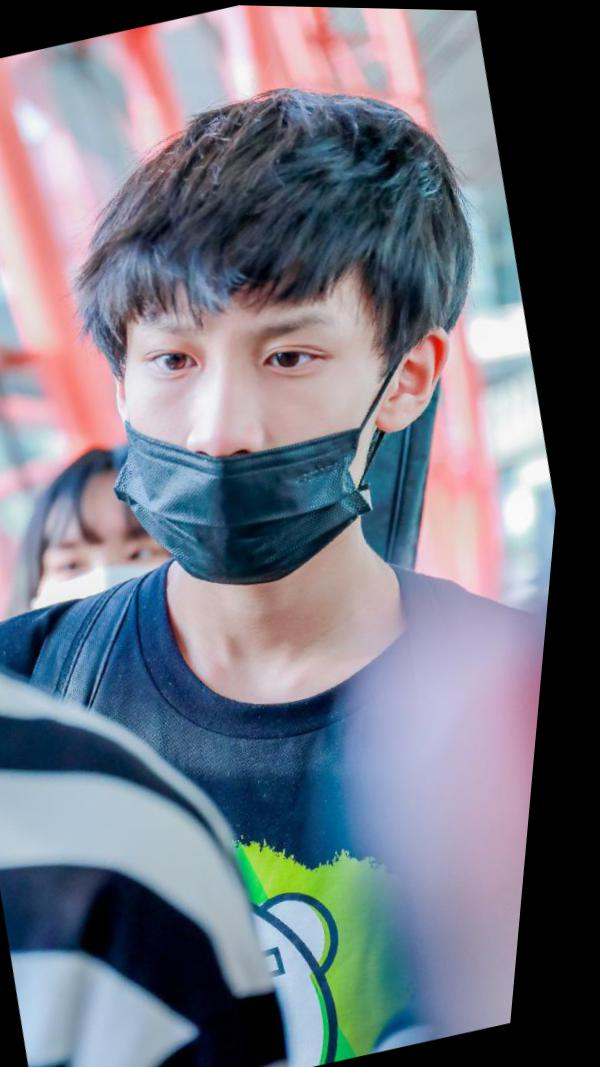OK: (24, 482, 202, 663)
WRONG: (91, 242, 437, 609)
